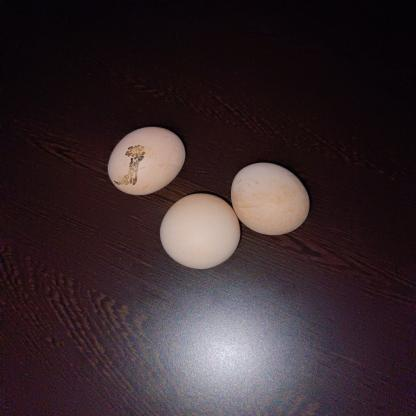egg: (224, 153, 323, 243), (152, 184, 242, 282), (98, 122, 189, 204)
